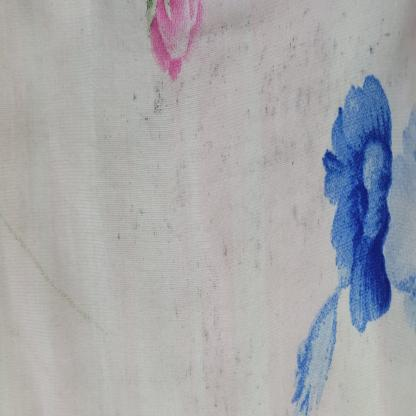spot: (41, 264, 110, 335), (197, 116, 231, 174), (173, 148, 196, 213), (289, 203, 313, 251), (260, 74, 278, 126), (285, 27, 305, 69), (152, 79, 170, 121), (132, 199, 148, 246), (298, 77, 312, 129), (313, 28, 327, 78), (210, 299, 223, 341), (251, 237, 264, 277), (213, 61, 227, 89), (244, 94, 254, 130), (221, 233, 232, 264), (284, 144, 296, 172), (218, 17, 233, 39), (201, 322, 212, 350), (254, 33, 264, 59), (328, 34, 339, 57), (196, 276, 206, 301), (116, 226, 124, 243), (245, 201, 250, 211)
